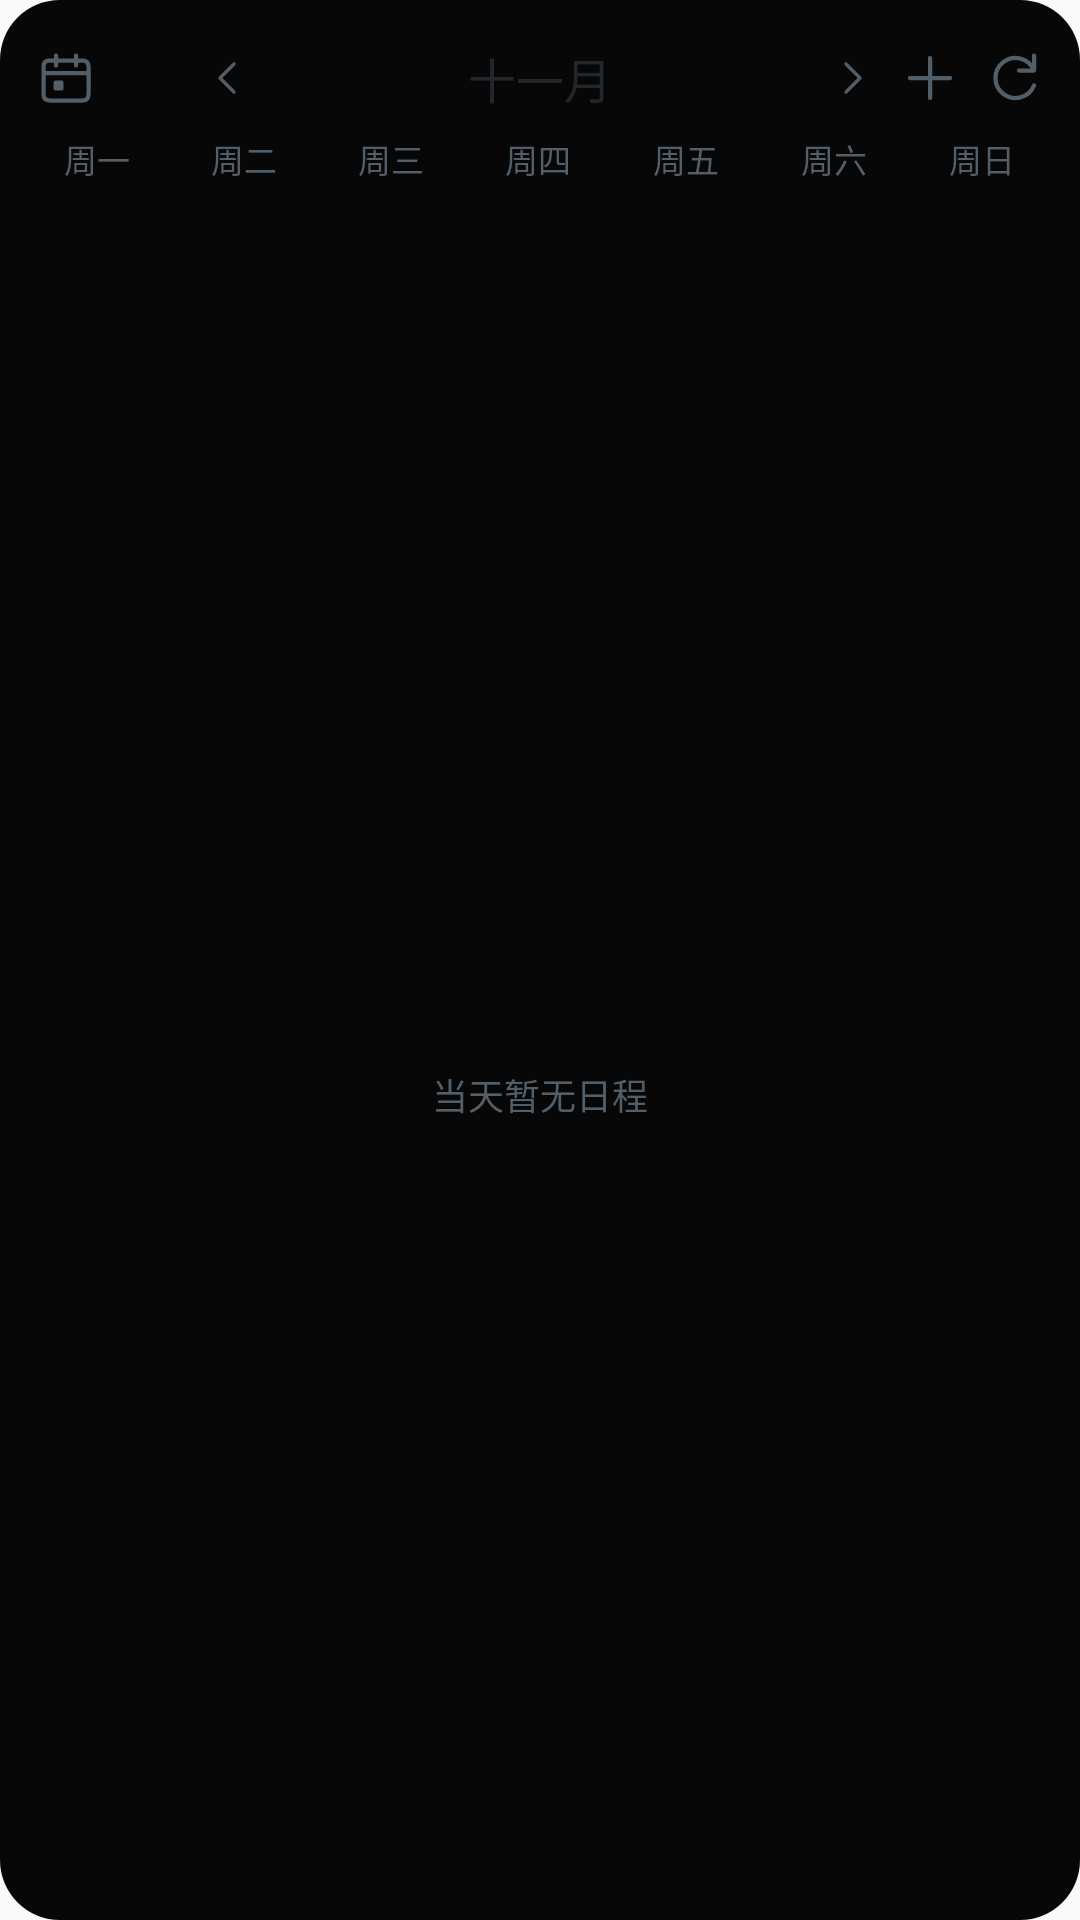

Named icons in this screenshot (1080×1920) and their centers, point (x, y):
上一周: point (227, 78)
下一周: point (853, 78)
刷新日程: point (1014, 76)
回到今天: point (66, 78)
在所选日期新建事件: point (930, 78)
